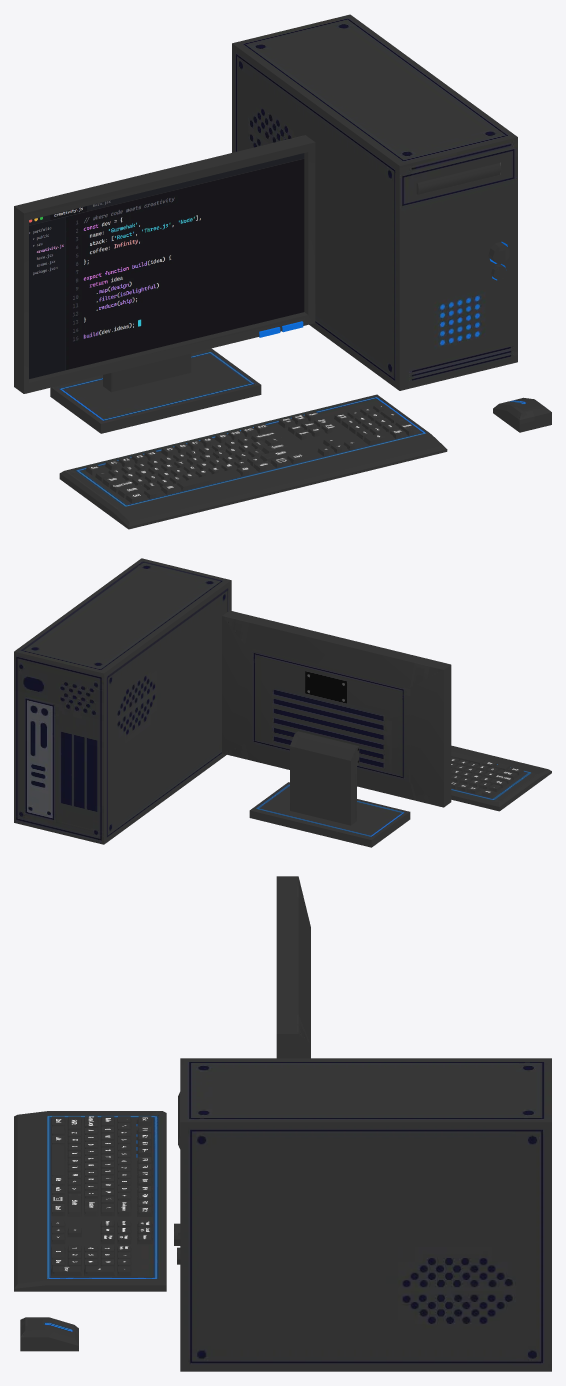
File: desktop-computer-hero.glb
The picture shows the model from 3 angles, top to bottom: view 1: azimuth 30°, elevation 25°; view 2: azimuth 150°, elevation 25°; view 3: azimuth 270°, elevation 25°; orthographic projection. The views are drawn at different scales.
Parts seen in each view (by area): view 1: System_unit, Screen, Keyboard1, Monitor, Comp_Mouse, Drive; view 2: System_unit, Monitor, Keyboard1; view 3: System_unit, Keyboard1, Monitor, Comp_Mouse.
Part boxes in pixels (x1,y1,x2,y2): System_unit: (232, 14, 517, 390); Screen: (29, 153, 304, 378); Keyboard1: (59, 394, 447, 529); Monitor: (14, 135, 315, 433); Comp_Mouse: (493, 397, 551, 432); Drive: (416, 163, 501, 194); System_unit: (14, 558, 231, 844); Monitor: (222, 610, 451, 847); Keyboard1: (451, 745, 551, 811); System_unit: (174, 1058, 551, 1371); Keyboard1: (14, 1111, 166, 1291); Monitor: (276, 876, 310, 1058); Comp_Mouse: (20, 1317, 78, 1351).
Bounding box in the file's own units: 2 × 0.9382 × 1.81.
3 materials, 2 textured.
